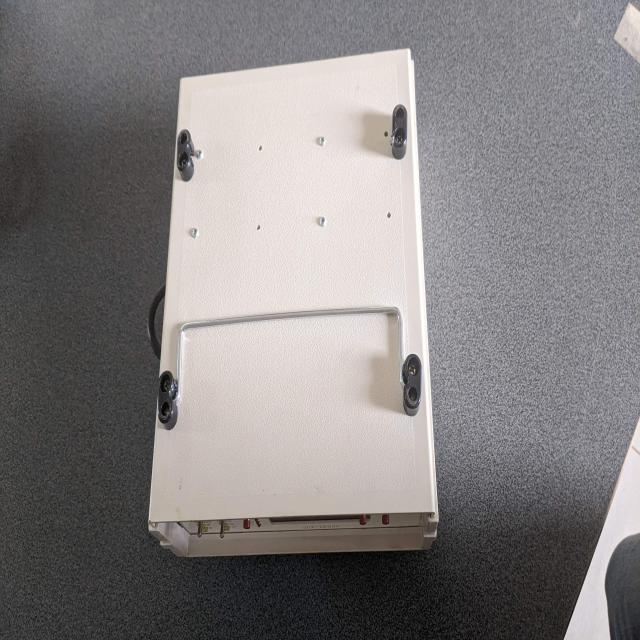Freefall Digital Timer: (143, 53, 444, 560)
